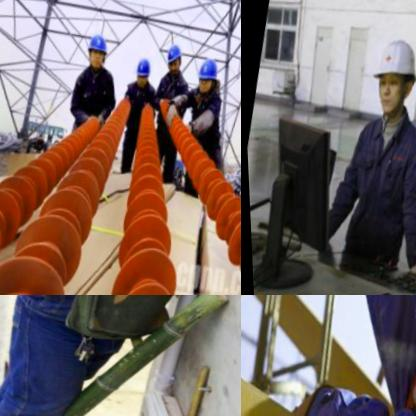helmet: (359, 29, 416, 123), (188, 58, 223, 105), (79, 29, 113, 75), (160, 44, 185, 79), (129, 57, 154, 92)
